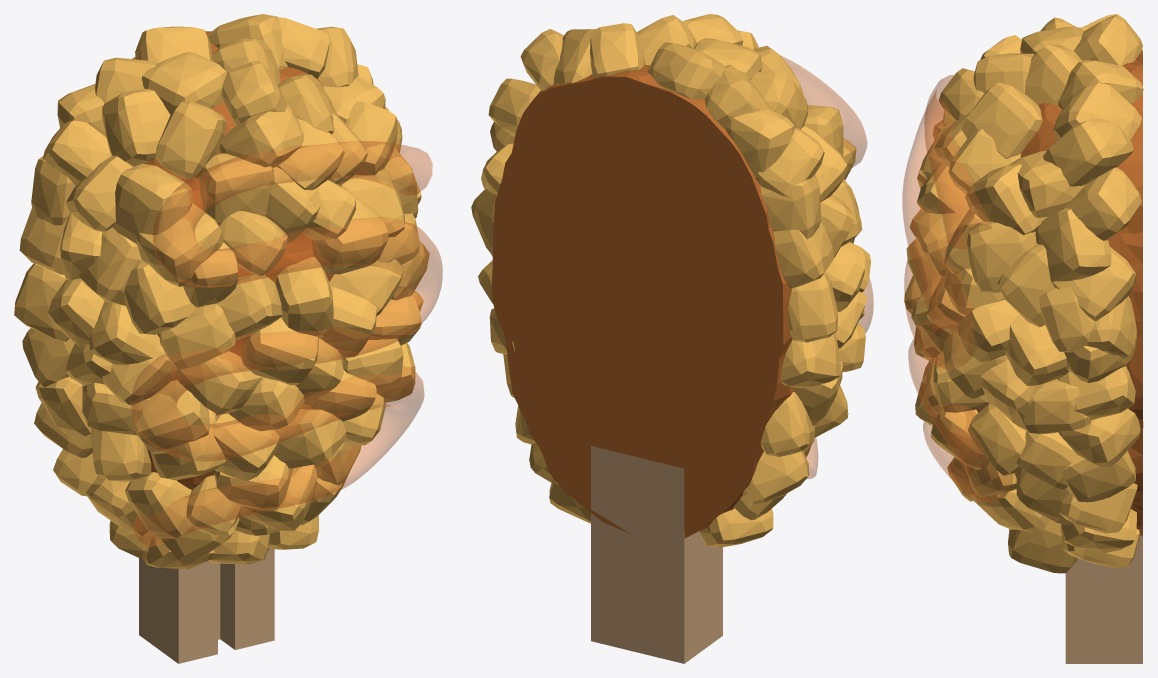
File: potato_hotdog_all.glb
3 renders of one model, left to right at view 1: azimuth 30°, elevation 25°; view 2: azimuth 150°, elevation 25°; view 3: azimuth 270°, elevation 25°, orthographic. The views are drawn at different scales.
Visible parts, largest first — view 1: Cube.663, NurbsPath.026, Cube.664; view 2: Cube.663, Cube.664, NurbsPath.026; view 3: Cube.663, NurbsPath.026, Cube.664.
Boxes of the visible parts, x1,y1,x2,y2 form: Cube.663: (14, 14, 429, 569); NurbsPath.026: (131, 141, 442, 546); Cube.664: (139, 549, 274, 663); Cube.663: (471, 14, 870, 547); Cube.664: (591, 446, 722, 663); NurbsPath.026: (780, 55, 873, 478); Cube.663: (904, 14, 1143, 573); NurbsPath.026: (902, 75, 1012, 502); Cube.664: (1065, 535, 1142, 663).
Size of the model in its own units: 10.98 by 17.18 by 6.23.
